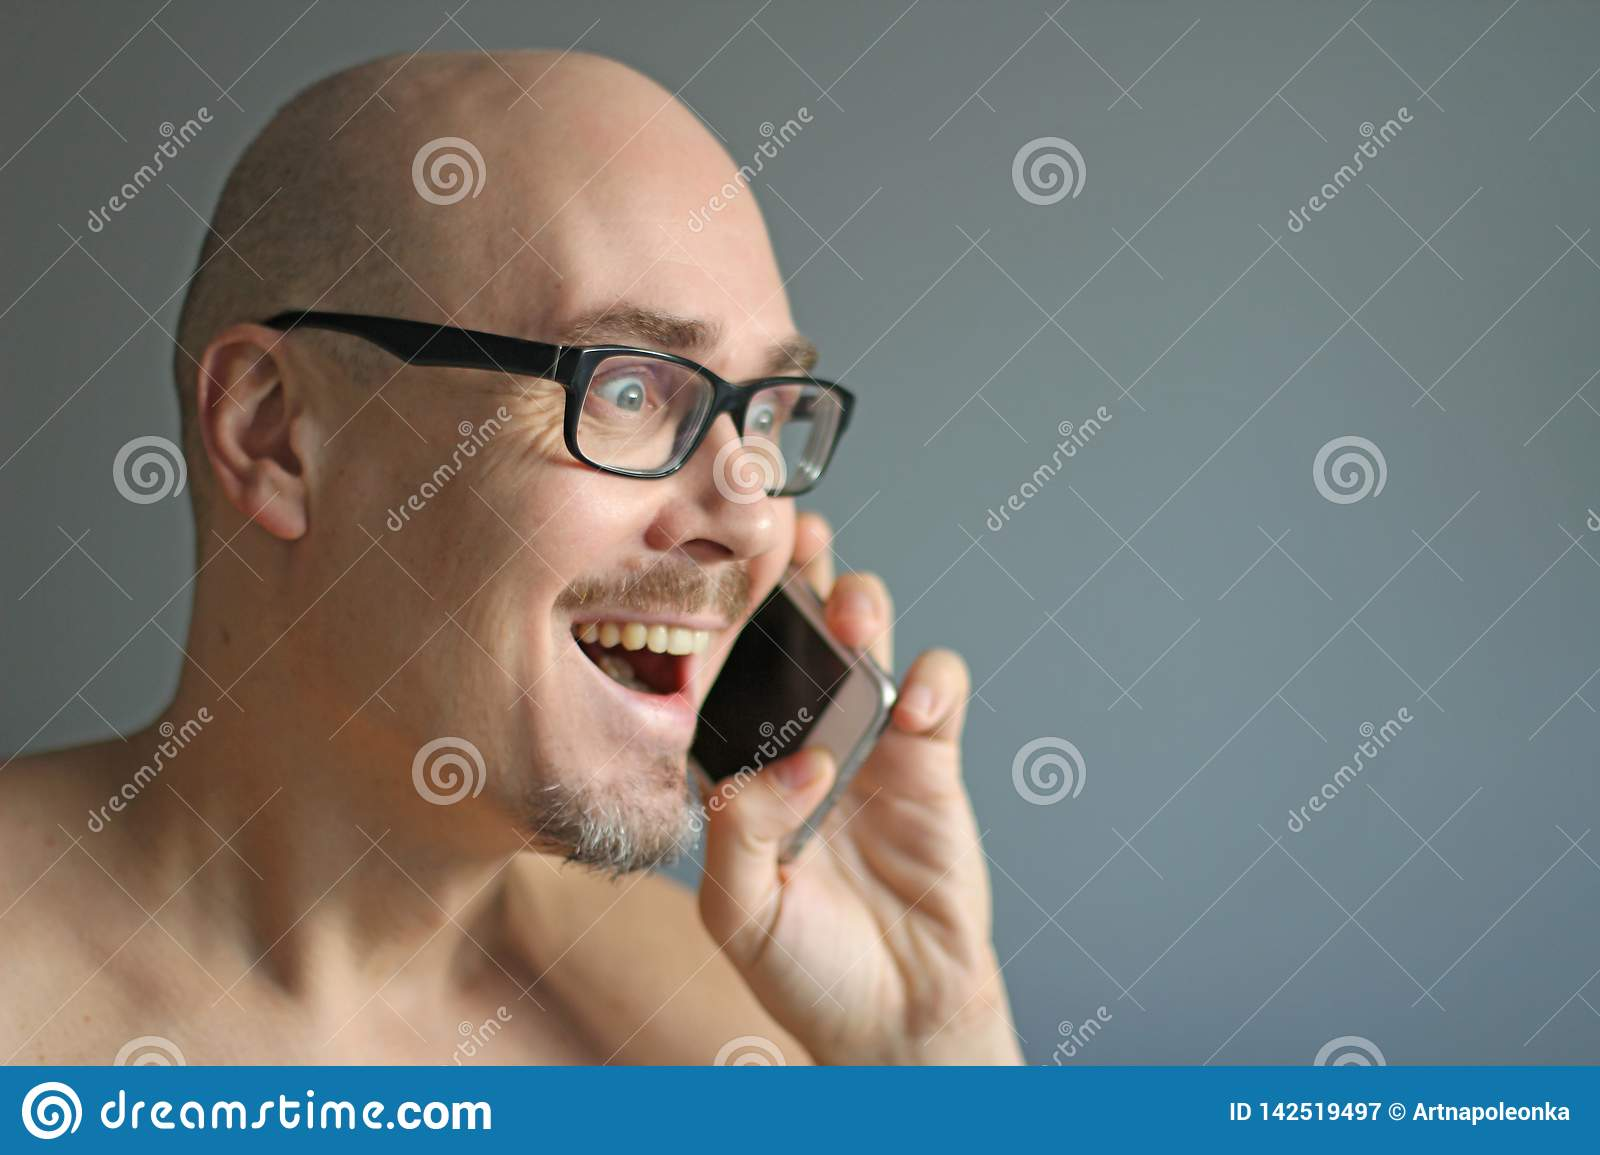phone: (689, 563, 901, 864)
talk: (516, 293, 1027, 1069)
